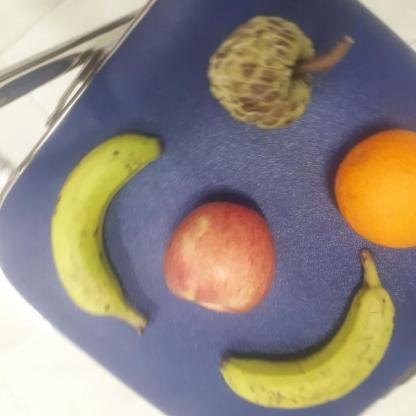annona: (207, 14, 314, 130)
apple: (163, 195, 278, 317)
banana: (218, 285, 398, 415), (51, 132, 163, 330)
orange: (329, 124, 415, 252)
